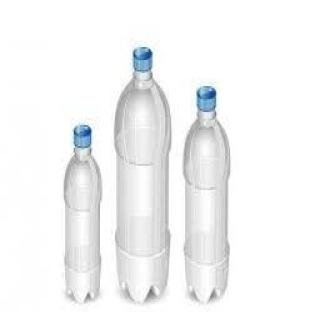Plastic-bottle: (114, 45, 175, 308), (184, 84, 234, 308), (62, 122, 105, 307)
